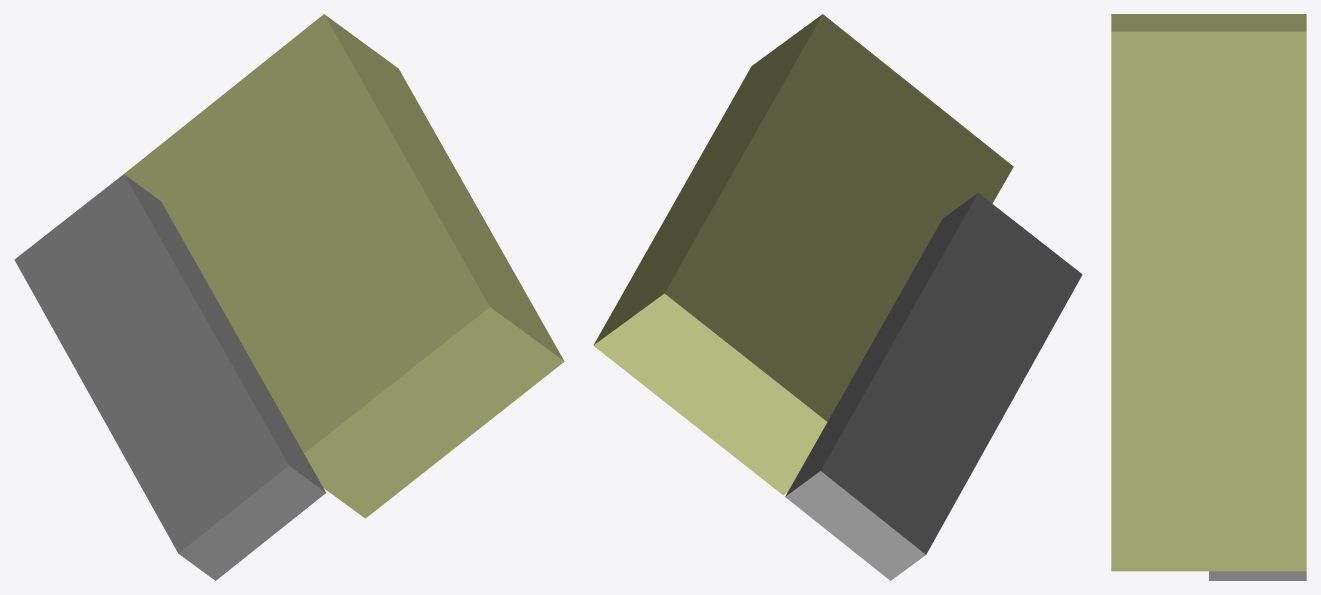
3 renders of one model, left to right at view 1: azimuth 30°, elevation 25°; view 2: azimuth 150°, elevation 25°; view 3: azimuth 270°, elevation 25°, orthographic. The views are drawn at different scales.
Visible parts, largest first — view 1: 0_1_0_2_0_3_1_0_0; view 2: 0_1_0_2_0_3_1_0_0; view 3: 0_1_0_2_0_3_1_0_0.
Boxes of the visible parts, <box> form: 0_1_0_2_0_3_1_0_0: <box>14,14,564,580</box>; 0_1_0_2_0_3_1_0_0: <box>593,14,1082,580</box>; 0_1_0_2_0_3_1_0_0: <box>1111,14,1306,580</box>.
Size of the model in its own units: 22.07 by 22.35 by 6.
